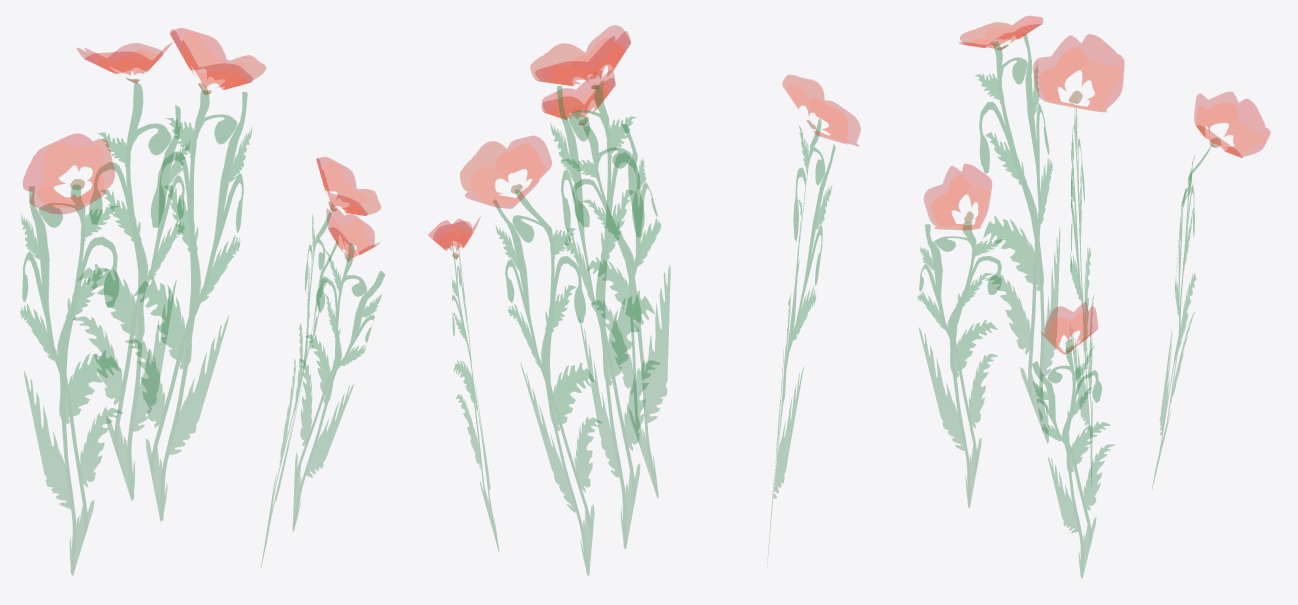
Rendered from PT_Poppy_02.glb.
3 views of the same model, side by side, from view 1: azimuth 30°, elevation 25°; view 2: azimuth 150°, elevation 25°; view 3: azimuth 270°, elevation 25° (orthographic). The views are drawn at different scales.
Parts seen in each view (by area): view 1: PT_Poppy_02_LOD0; view 2: PT_Poppy_02_LOD0; view 3: PT_Poppy_02_LOD0.
Part boxes in pixels (<box>): PT_Poppy_02_LOD0: <box>20,28,384,575</box>; PT_Poppy_02_LOD0: <box>428,25,860,575</box>; PT_Poppy_02_LOD0: <box>918,16,1270,577</box>.
Bounding box in the file's own units: 0.6317 × 0.8191 × 0.5409.
Materials: 1 (1 with a texture image).
